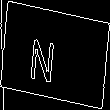N_N: (40, 27, 70, 83)
